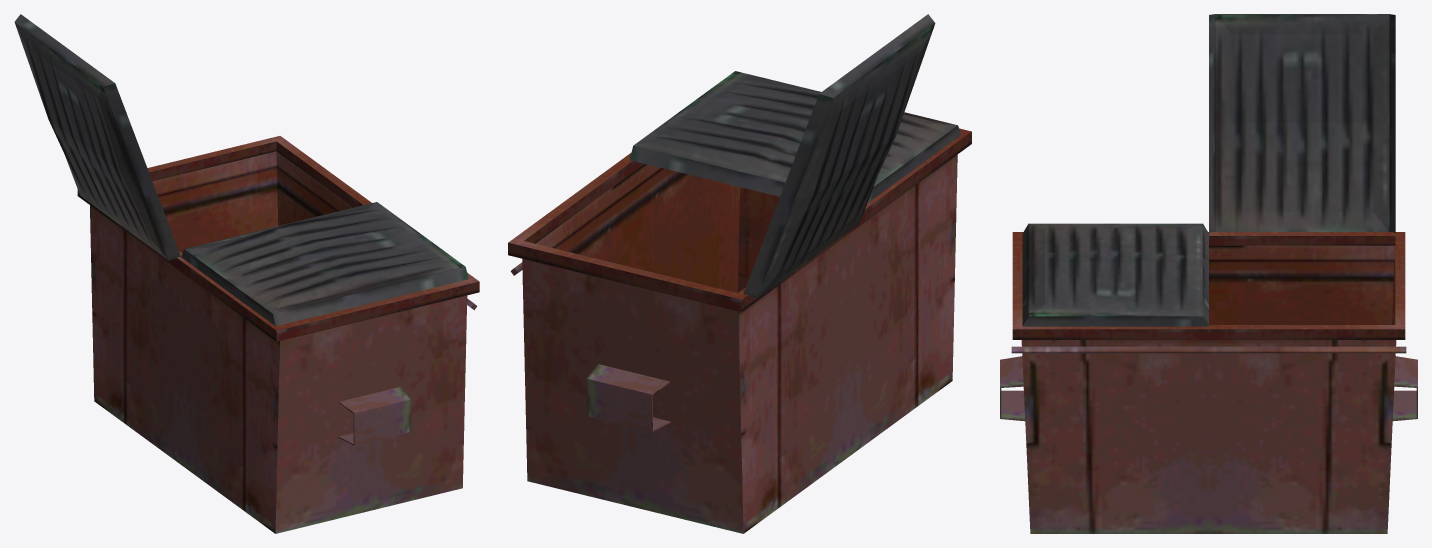
The model's file is Urban_DumpsterEmptyLidOpenRed_Model.fbx.
3 views of the same model, side by side, from view 1: azimuth 30°, elevation 25°; view 2: azimuth 150°, elevation 25°; view 3: azimuth 270°, elevation 25° (orthographic). The views are drawn at different scales.
Parts seen in each view (by area): view 1: Urban_DumpsterEmptyLidOpenRed_Mesh; view 2: Urban_DumpsterEmptyLidOpenRed_Mesh; view 3: Urban_DumpsterEmptyLidOpenRed_Mesh.
Part boxes in pixels (left/top/right/bottom): Urban_DumpsterEmptyLidOpenRed_Mesh: left=14, top=14, right=479, bottom=533; Urban_DumpsterEmptyLidOpenRed_Mesh: left=508, top=14, right=971, bottom=533; Urban_DumpsterEmptyLidOpenRed_Mesh: left=1000, top=14, right=1417, bottom=533.
Bounding box in the file's own units: 2.74 × 3.84 × 3.67.
